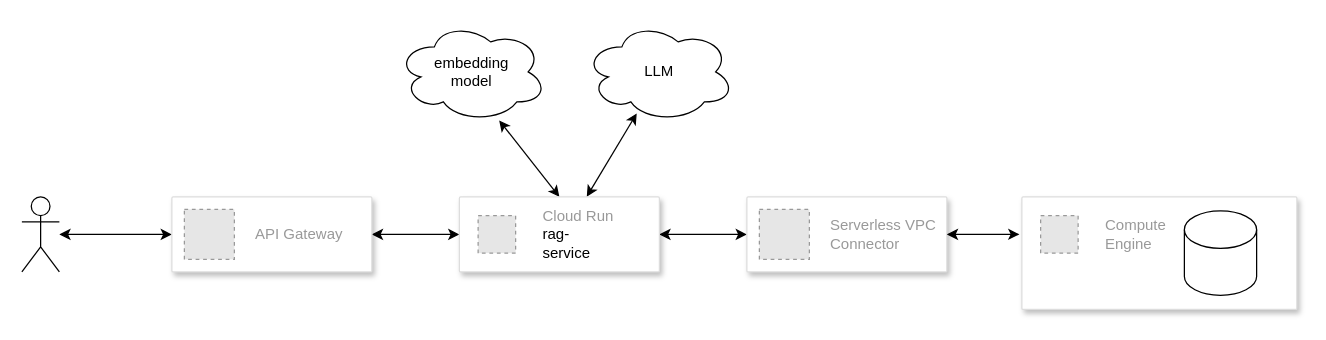
Some shapes in this 1326 by 340 pixel diagram are drawn without their labels. Grey dashed boxes stand in for pictures. The shapes that lost their labels are listed below. From the top down, each one's centre as x and y in pixels, then its label:
At pixel 40 234: "Actor".
At pixel 1220 252: "Qdrand".
